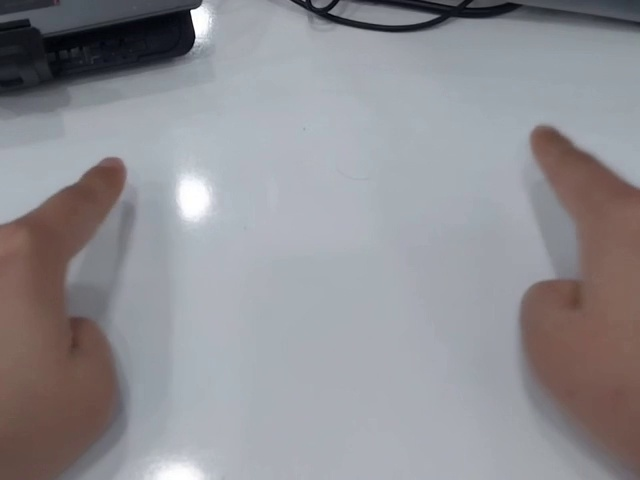fingers: (82, 155, 127, 204), (529, 124, 573, 171)
